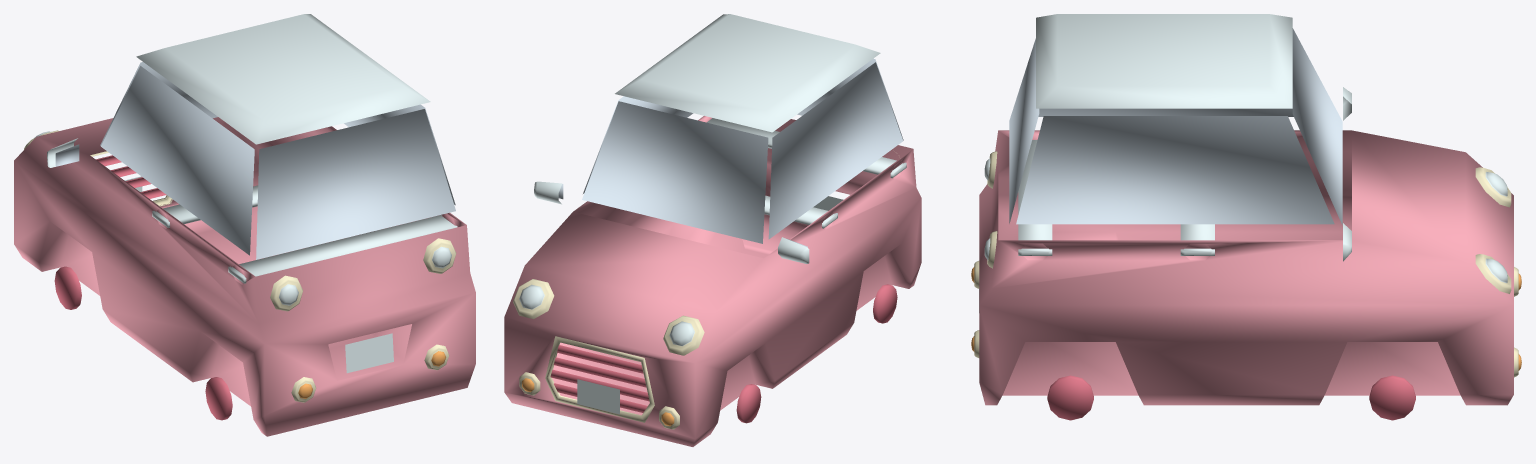
Rendered from Car_03.fbx.
3 renders of one model, left to right at view 1: azimuth 30°, elevation 25°; view 2: azimuth 150°, elevation 25°; view 3: azimuth 270°, elevation 25°, orthographic. The views are drawn at different scales.
Visible parts, largest first — view 1: CarC_T.001; view 2: CarC_T.001; view 3: CarC_T.001.
Boxes of the visible parts, x1,y1,x2,y2 form: CarC_T.001: [14, 14, 475, 436]; CarC_T.001: [504, 14, 921, 446]; CarC_T.001: [971, 14, 1521, 420].
Bounding box in the file's own units: 94.09 × 94.83 × 144.
1 material, 1 textured.
